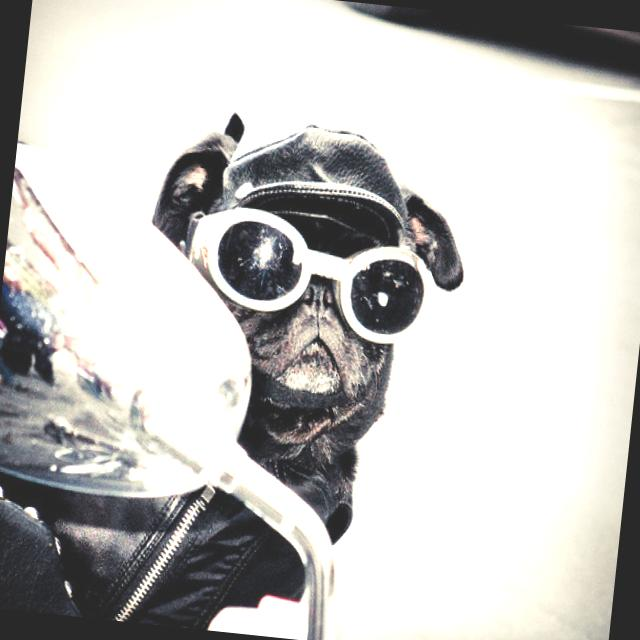Vehicle: (0, 139, 385, 640)
